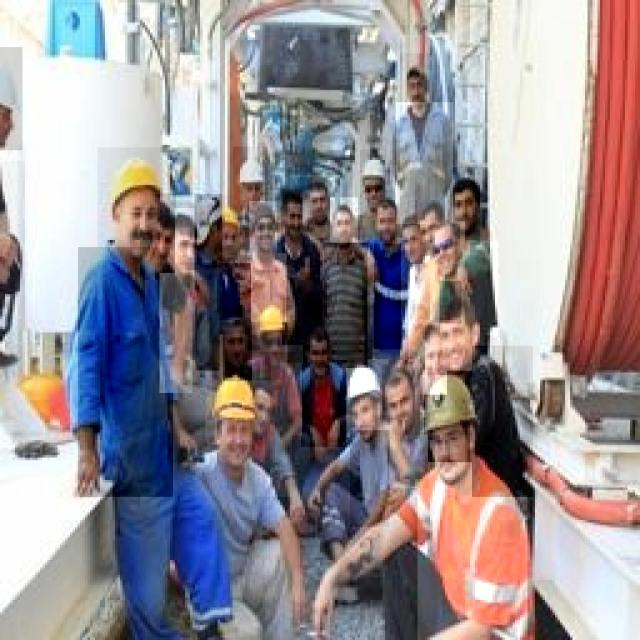Helmet: (78, 247, 173, 497), (418, 462, 528, 640), (472, 346, 533, 497), (196, 447, 269, 573), (396, 102, 453, 224), (98, 148, 162, 250), (424, 369, 480, 481), (318, 243, 368, 368), (0, 162, 25, 378), (282, 238, 324, 345), (206, 366, 257, 444), (350, 430, 390, 527), (160, 273, 192, 393), (382, 364, 424, 454), (301, 364, 346, 447), (438, 290, 484, 370), (346, 359, 388, 437), (464, 241, 498, 335), (374, 243, 401, 349), (450, 168, 488, 241), (247, 253, 287, 322), (413, 316, 447, 394), (255, 426, 292, 497), (233, 146, 268, 220), (196, 268, 220, 370), (430, 222, 465, 290), (218, 263, 251, 334), (195, 194, 223, 277), (271, 362, 302, 436), (150, 194, 176, 282), (0, 47, 22, 150), (256, 298, 296, 352), (390, 435, 428, 489), (303, 322, 337, 381), (223, 312, 252, 381), (397, 217, 426, 284), (406, 53, 440, 107), (175, 208, 195, 297), (361, 150, 386, 220), (246, 380, 279, 432), (416, 195, 446, 252), (249, 201, 277, 261), (374, 198, 404, 254), (282, 190, 310, 246), (409, 265, 425, 363), (300, 177, 331, 225), (218, 196, 241, 260), (331, 198, 358, 252), (423, 256, 439, 331), (436, 281, 462, 323)
